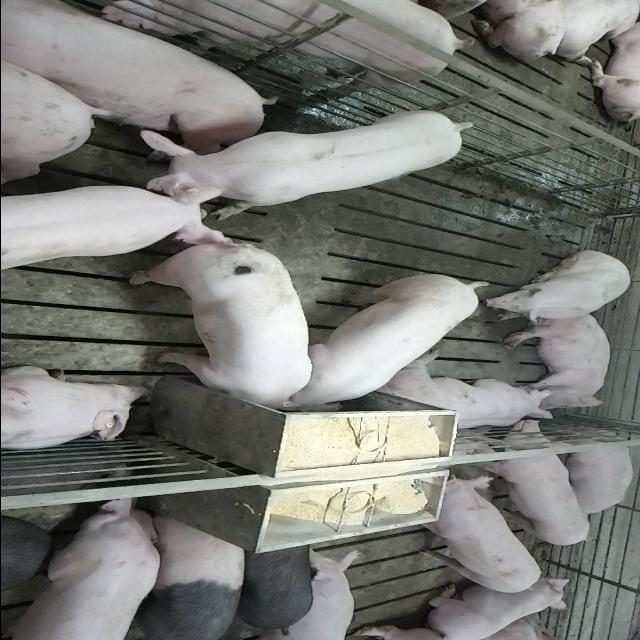Feeding: (125, 244, 313, 420), (284, 270, 496, 410)
Lateral_lying: (502, 311, 612, 411)
Sitting: (480, 250, 634, 322)
Standing: (76, 0, 466, 100), (136, 108, 473, 218), (0, 498, 162, 638), (0, 172, 221, 270), (411, 474, 542, 597), (119, 513, 247, 638), (480, 421, 594, 548), (228, 530, 316, 636)
Sternal_lying: (372, 356, 554, 432), (0, 366, 150, 454), (418, 578, 568, 638), (551, 432, 633, 518)
